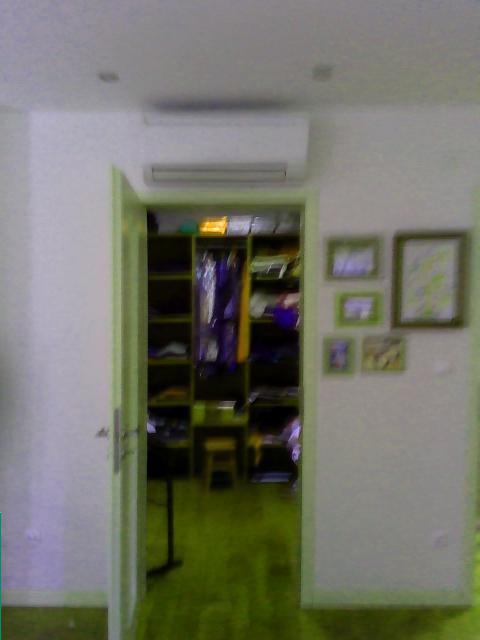open_door: (124, 184, 315, 611)
